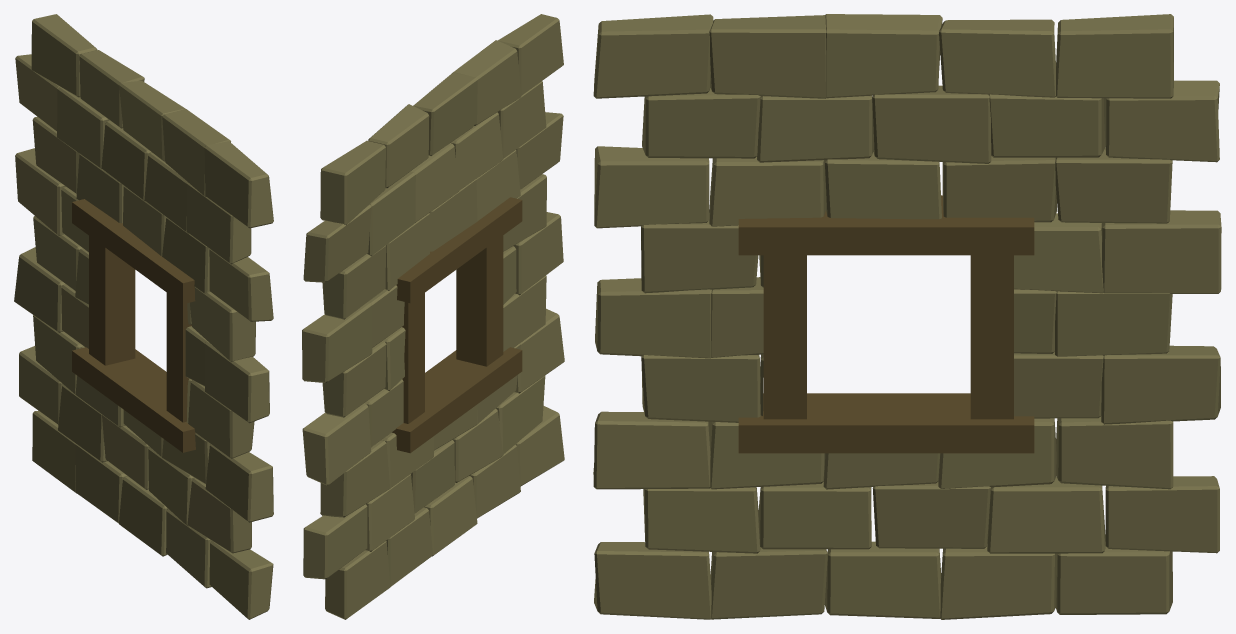
Rendered from BrickWall-Sandstone-Window.fbx.
3 views of the same model, side by side, from view 1: azimuth 30°, elevation 25°; view 2: azimuth 150°, elevation 25°; view 3: azimuth 270°, elevation 25° (orthographic). The views are drawn at different scales.
Parts seen in each view (by area): view 1: Sandstone Window Wall.001, Sandstone wf4.001, Sandstone wf2.001, Sandstone wf3.001, Sandstone wf1.001; view 2: Sandstone Window Wall.001, Sandstone wf4.001, Sandstone wf1.001, Sandstone wf3.001, Sandstone wf2.001; view 3: Sandstone Window Wall.001, Sandstone wf4.001, Sandstone wf3.001, Sandstone wf1.001, Sandstone wf2.001.
Part boxes in pixels (<box>): Sandstone Window Wall.001: <box>14,14,273,619</box>; Sandstone wf4.001: <box>72,347,195,452</box>; Sandstone wf2.001: <box>89,236,135,365</box>; Sandstone wf3.001: <box>72,199,195,303</box>; Sandstone wf1.001: <box>166,293,191,422</box>; Sandstone Window Wall.001: <box>302,14,564,619</box>; Sandstone wf4.001: <box>392,347,522,453</box>; Sandstone wf1.001: <box>456,235,503,366</box>; Sandstone wf3.001: <box>396,197,522,303</box>; Sandstone wf2.001: <box>402,293,424,423</box>; Sandstone Window Wall.001: <box>593,14,1221,619</box>; Sandstone wf4.001: <box>738,393,1034,453</box>; Sandstone wf3.001: <box>738,195,1034,255</box>; Sandstone wf1.001: <box>763,255,806,419</box>; Sandstone wf2.001: <box>970,255,1013,419</box>.
Bounding box in the file's own units: 105 × 907 × 874.
